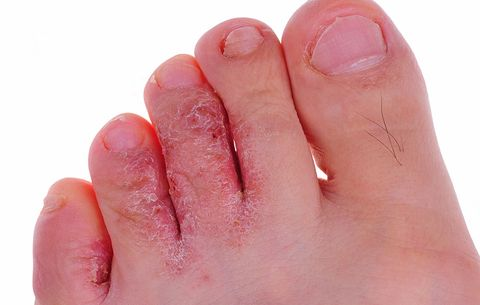Impetigo: (89, 74, 345, 293)
